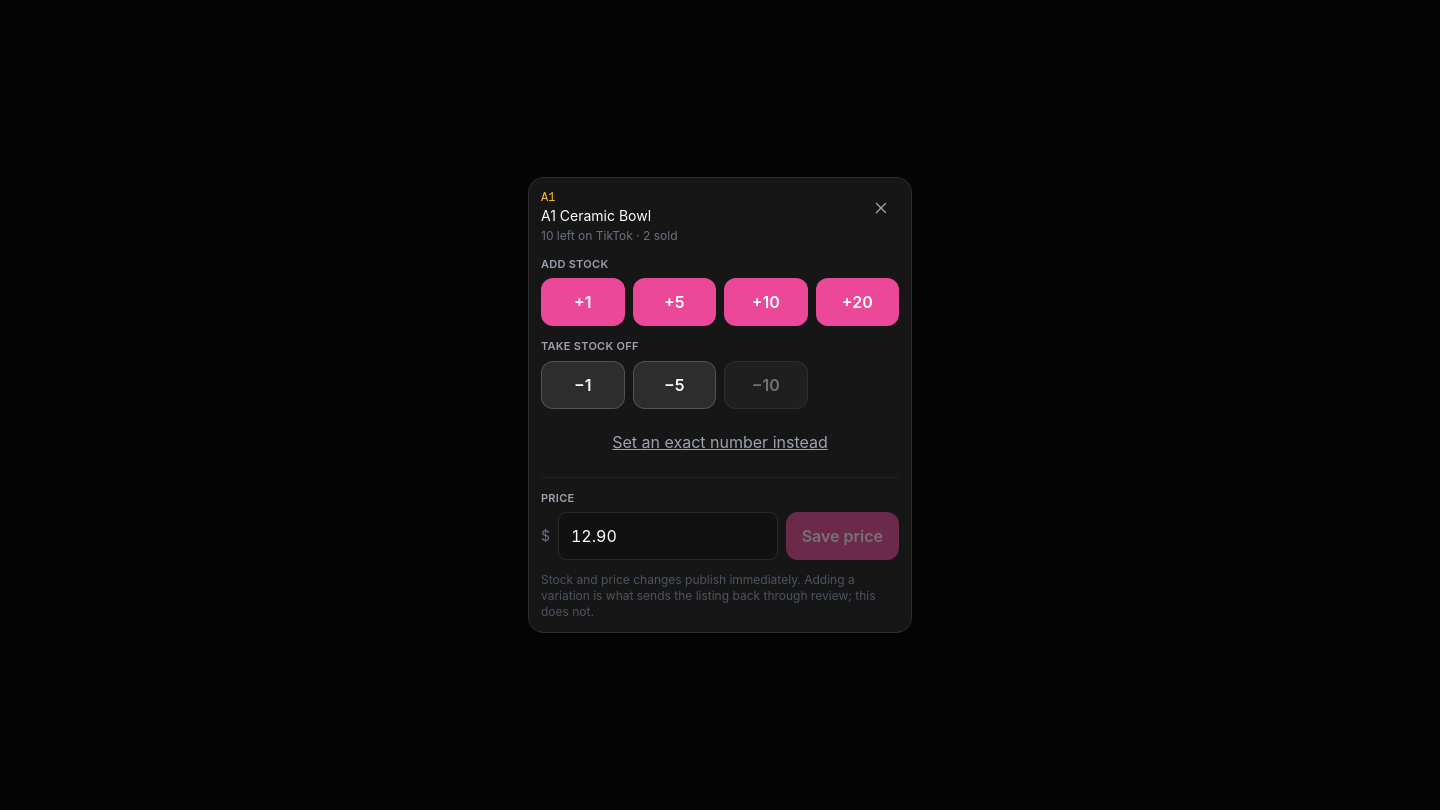
Test case: stock › says how the check ended once the caller has read the listing
The image size is (1440, 810).
Click the button "+10" at (766, 302), box [724,278,808,326]
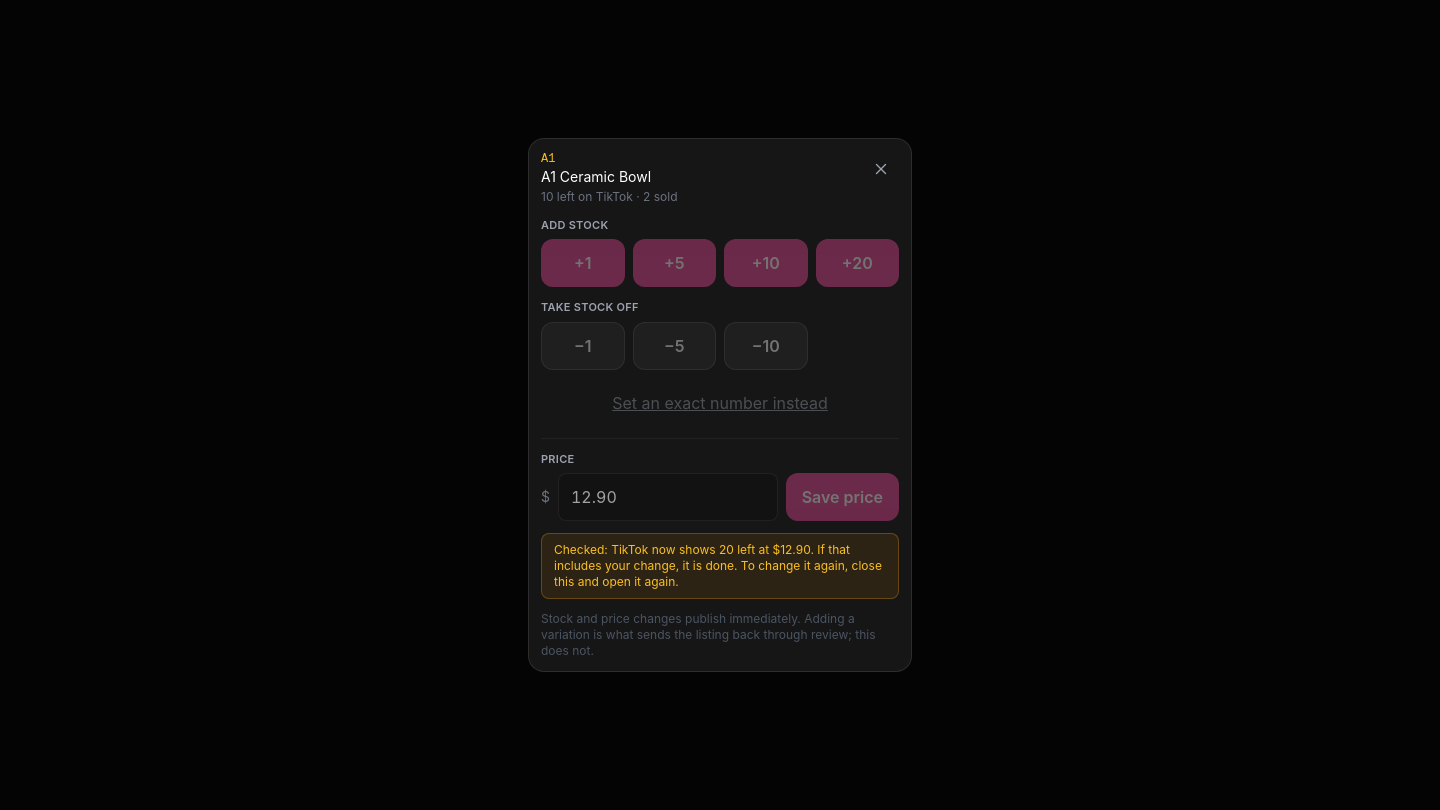
Expected: the text "Checked: TikTok now shows 20 left" is shown, [554,542,882,589]
Expected: the button "+10" is disabled, [724,239,808,287]
